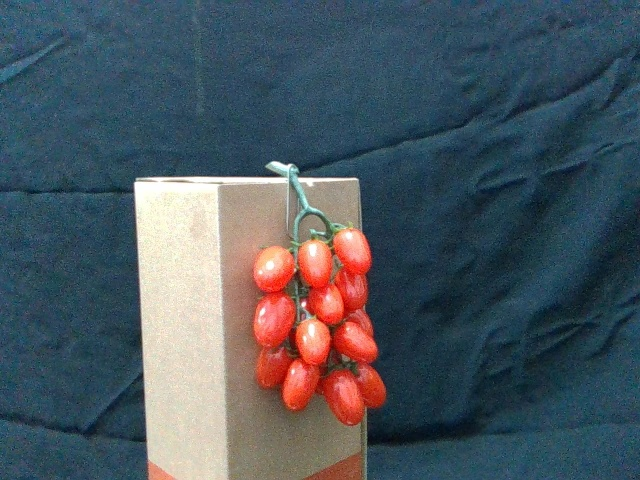tomato: (324, 367, 365, 427), (253, 295, 297, 346), (283, 359, 322, 415), (253, 245, 297, 292), (333, 323, 380, 367), (350, 357, 388, 411), (335, 225, 375, 275), (296, 316, 334, 366), (304, 279, 343, 326), (298, 235, 333, 287), (258, 344, 294, 390), (336, 267, 371, 313)
